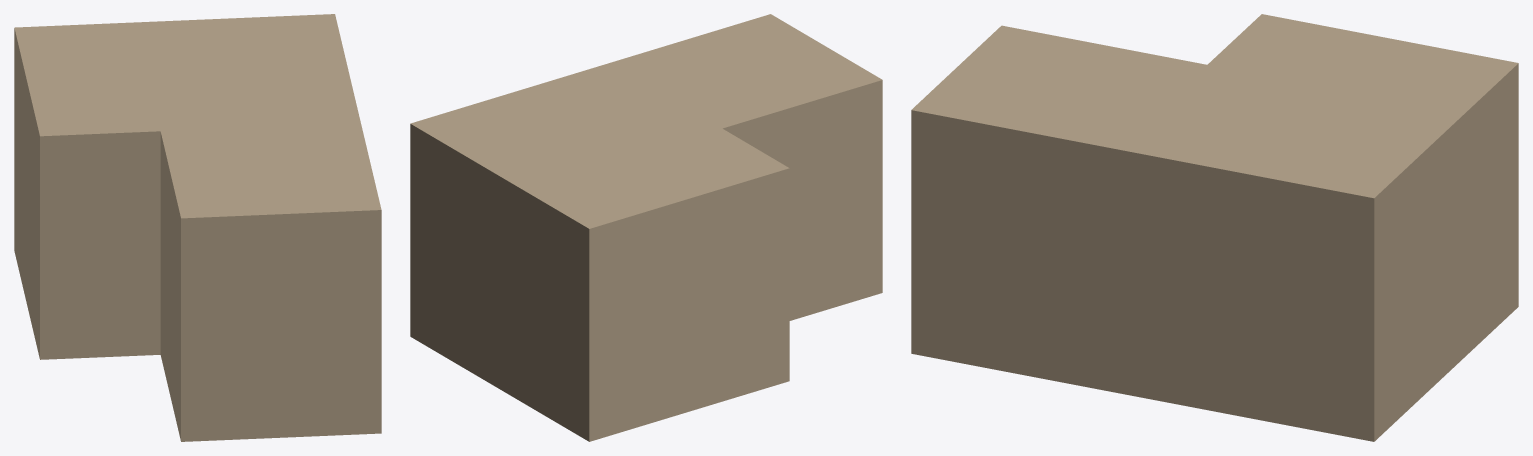
File: bld_99520008.dae
3 views of the same model, side by side, from view 1: azimuth 30°, elevation 25°; view 2: azimuth 150°, elevation 25°; view 3: azimuth 270°, elevation 25° (orthographic). The views are drawn at different scales.
Visible parts, largest first — view 1: bld_99520008; view 2: bld_99520008; view 3: bld_99520008.
Boxes of the visible parts, x1=… form: bld_99520008: x1=14, y1=14, x2=381, y2=441; bld_99520008: x1=410, y1=14, x2=882, y2=441; bld_99520008: x1=911, y1=14, x2=1518, y2=441.
Size of the model in its own units: 12.98 by 18.08 by 8.
